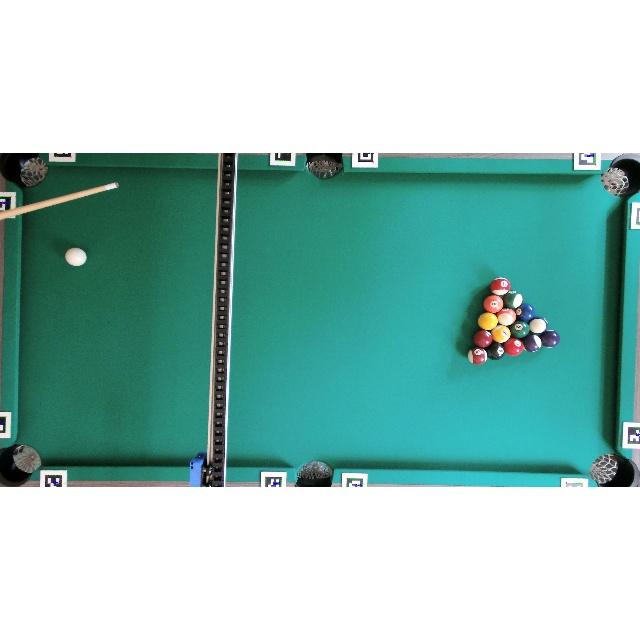cue ball: (64, 247, 88, 267)
other: (510, 320, 530, 339), (516, 303, 536, 322), (490, 277, 510, 296), (523, 333, 542, 352), (486, 342, 506, 360), (491, 325, 511, 343), (503, 291, 523, 309), (478, 313, 498, 331), (473, 330, 493, 348), (504, 338, 524, 356), (540, 330, 560, 348), (484, 295, 503, 313), (498, 308, 516, 326), (468, 348, 488, 364), (529, 317, 547, 334)
